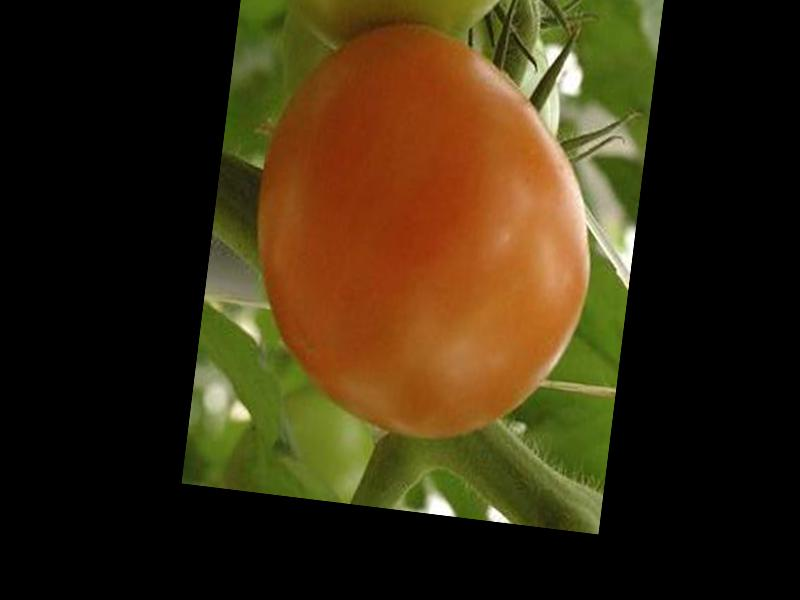Tomato: (233, 10, 618, 455)
